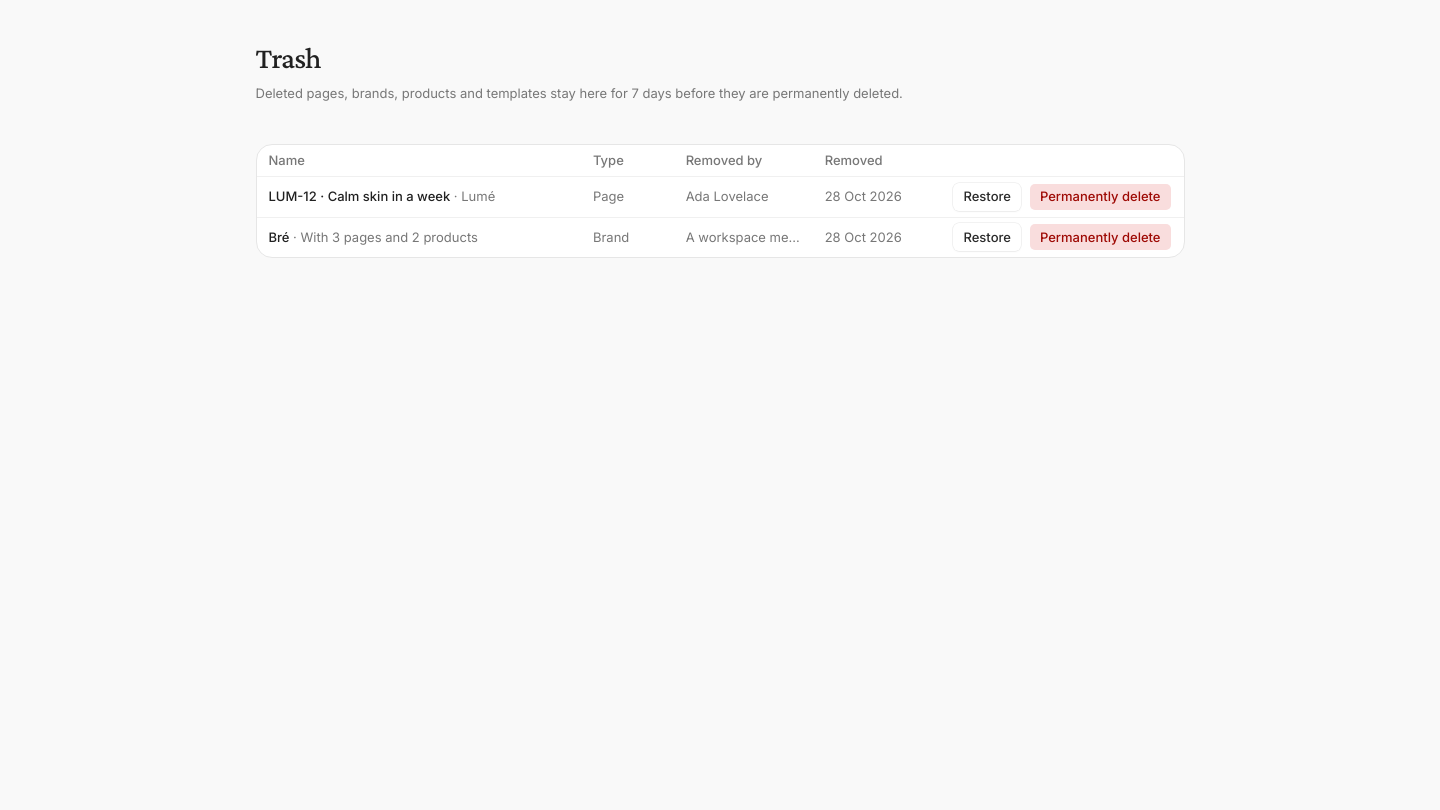
Test case: TrashSettings › asks before deleting for good, then deletes and updates the list
This screenshot has width=1440, height=810.
Click the button "Permanently delete" in the row of "LUM-12 · Calm skin in a week" at (1100, 197), box [1029, 183, 1172, 211]
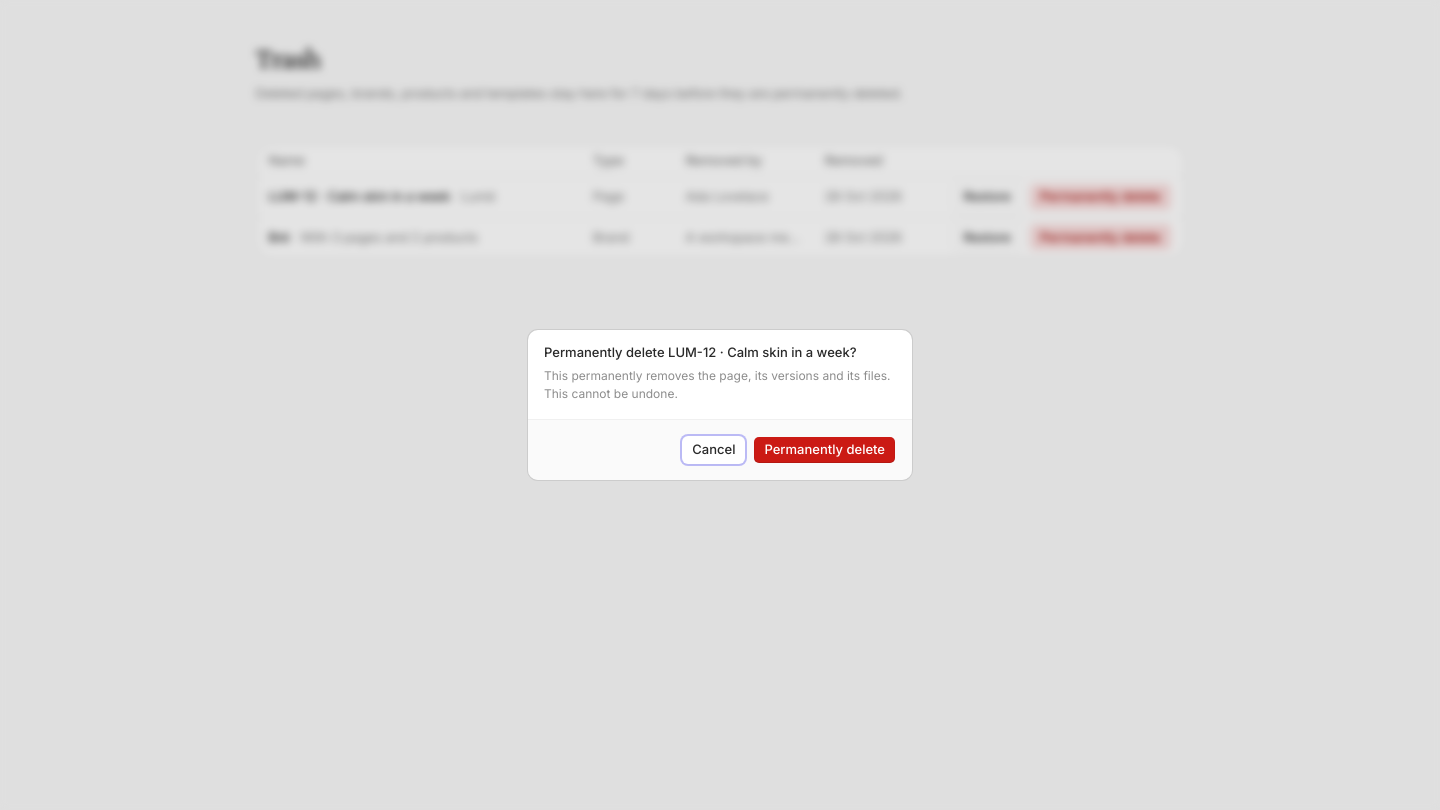
Result: the heading "Permanently delete LUM-12 · Calm skin in a week?" is shown at [544, 346, 896, 359]
Result: the text "This cannot be undone" is shown at [544, 386, 678, 401]
Click the button "Permanently delete" at (825, 450), box [753, 436, 896, 464]
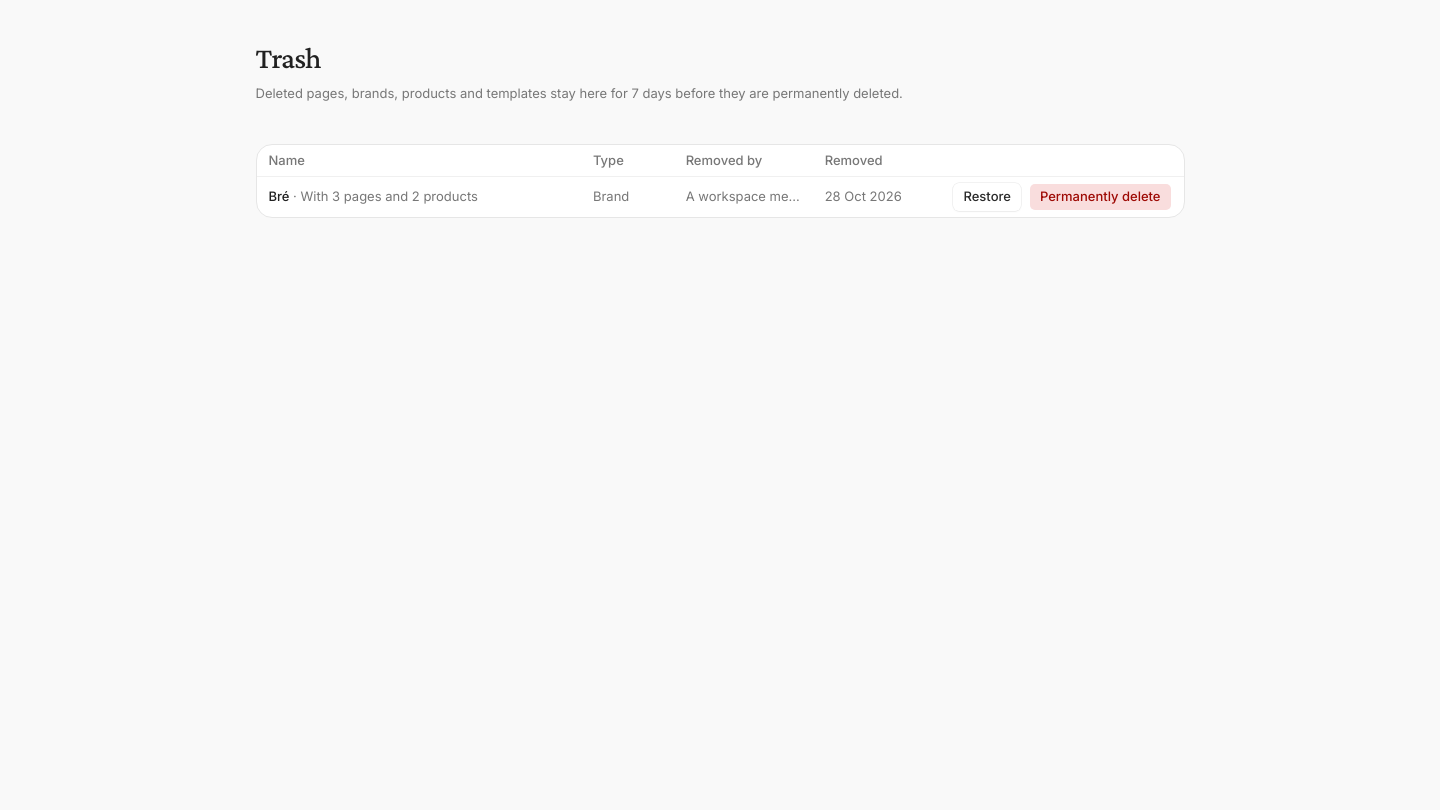
Result: the number of rows is 2 at [256, 144, 1184, 176]; [256, 177, 1184, 217]
